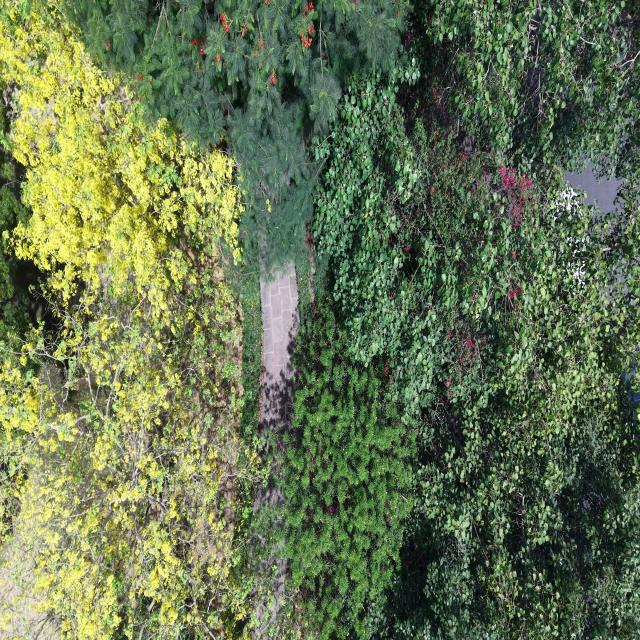DRY_AREA: (260, 265, 298, 435), (0, 540, 61, 639)
PATHWAYS: (260, 264, 298, 454), (261, 265, 297, 422)
VEGETATION_TREE: (0, 0, 639, 639), (315, 82, 639, 638), (0, 12, 256, 638), (66, 0, 639, 261), (66, 0, 408, 261), (0, 13, 241, 314), (69, 0, 407, 142), (275, 303, 415, 638), (409, 0, 639, 177), (0, 104, 34, 352), (0, 105, 32, 342), (0, 186, 31, 353), (241, 272, 262, 439), (0, 236, 30, 346), (0, 105, 19, 194)
